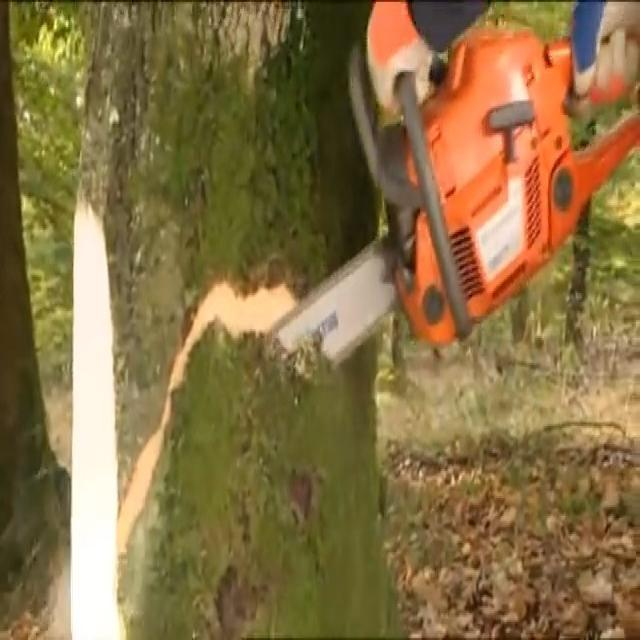Chainsaw: (232, 3, 640, 412)
